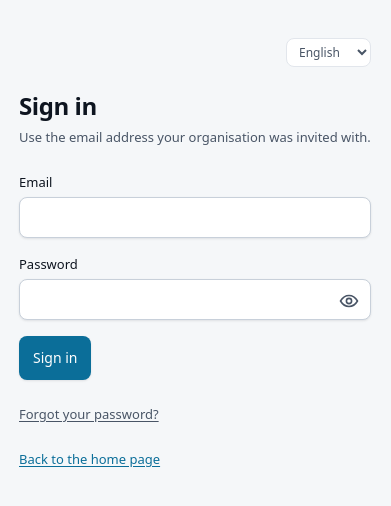
signing in › checks the address and the length before sending anything
The image size is (391, 506).
Type "not-an-address" into the field labelled "Email". click: (195, 217)
box: [19,197,371,238]
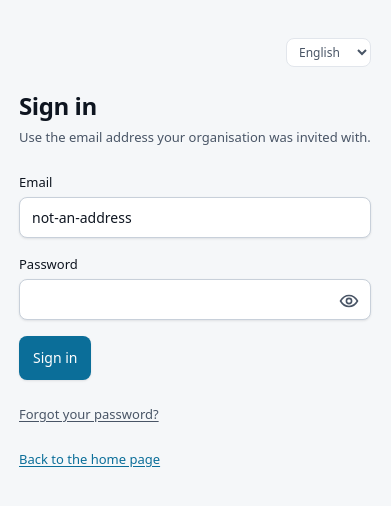
Type "short" into the password field labelled "Password". click: (195, 299)
box: [19,279,371,320]
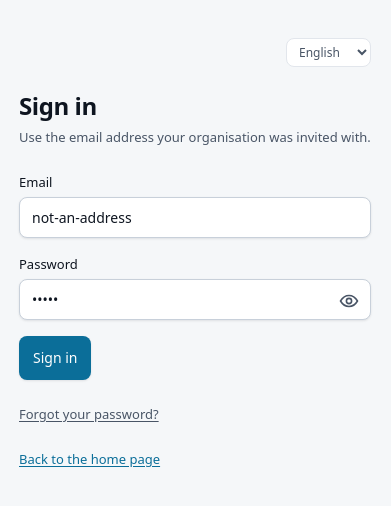
Click the button "Sign in". click: (55, 358)
box: [19,336,92,380]
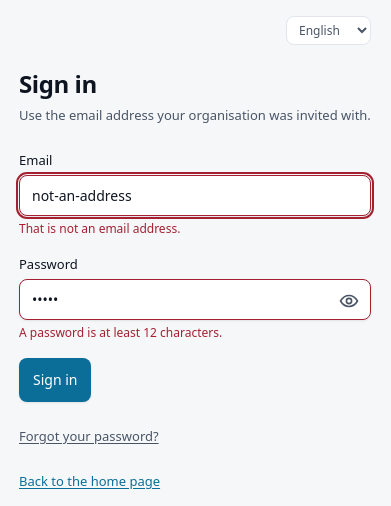
Expected: the messages read "That is not an email address.", "A password is at least 12 characters.", in this order, [19,220,180,237]; [19,324,222,341]
